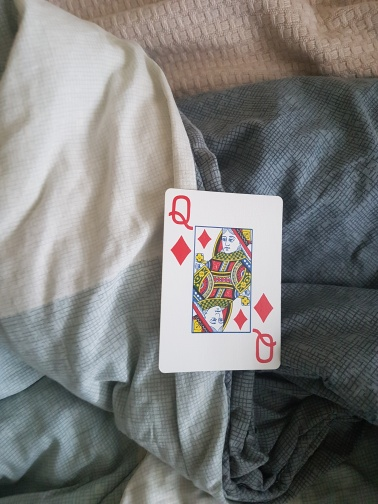queen: (159, 188, 281, 372)
